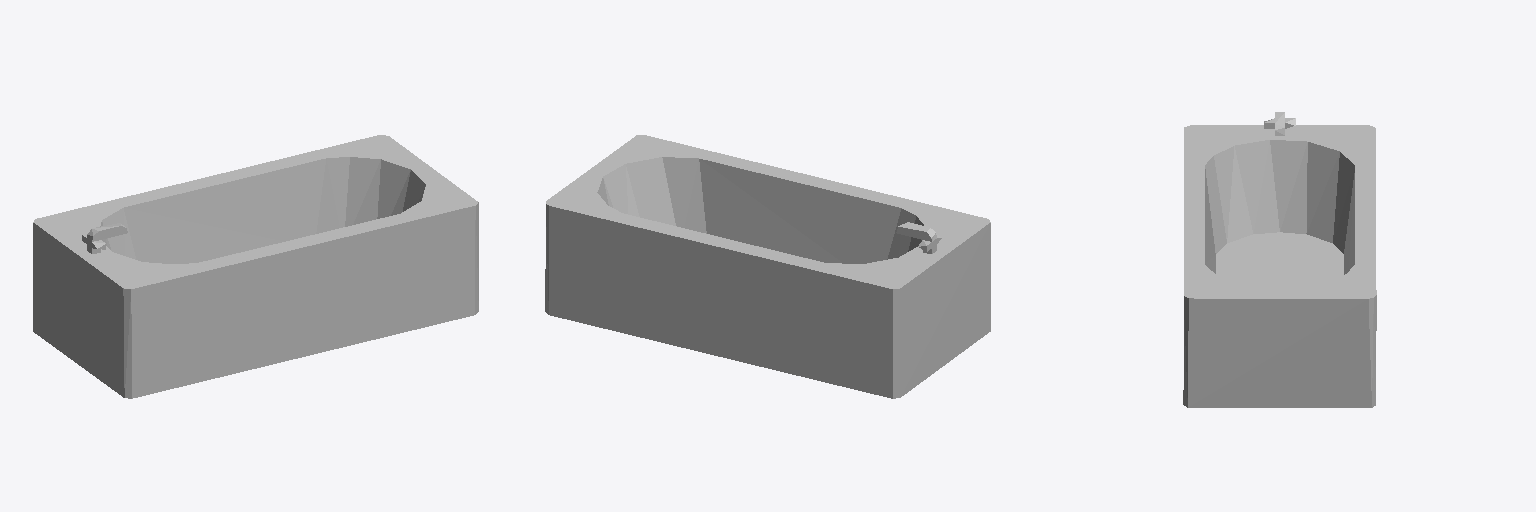
The model's file is bath tub collision.obj.
The picture shows the model from 3 angles: view 1: azimuth 30°, elevation 25°; view 2: azimuth 150°, elevation 25°; view 3: azimuth 270°, elevation 25°; orthographic projection.
Visible parts, largest first — view 1: bathtub; view 2: bathtub; view 3: bathtub.
Boxes of the visible parts, x1,y1,x2,y2 form: bathtub: [33, 135, 478, 398]; bathtub: [545, 135, 990, 398]; bathtub: [1183, 112, 1376, 407].
Size of the model in its own units: 1.19 by 0.4192 by 0.5591.